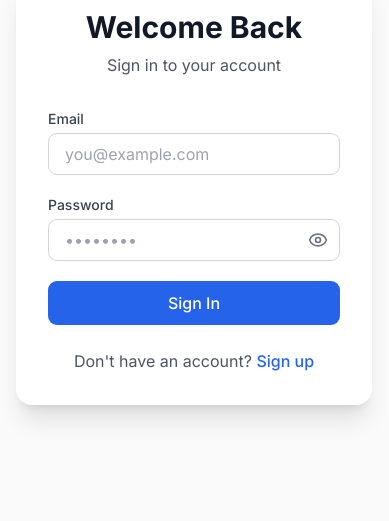
Test case: Login component › displays API error message on failure
Type "test@example.com" into the field with placeholder "you@example.com". click: {"x": 194, "y": 154}
box: x1=48 y1=133 x2=340 y2=175
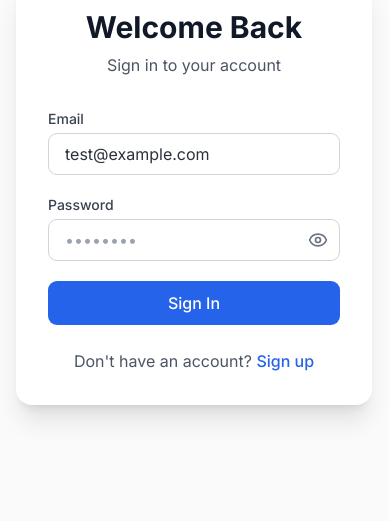
Type "Password123" into the password field with placeholder "••••••••". click: {"x": 194, "y": 240}
box: x1=48 y1=219 x2=340 y2=261
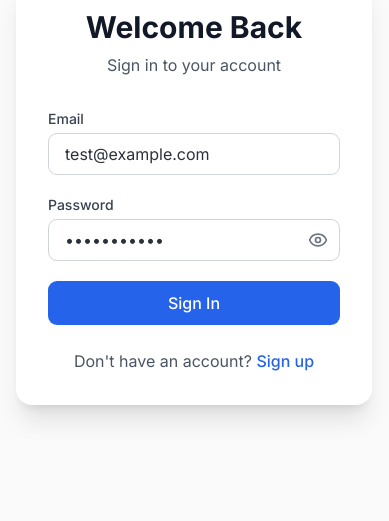
Click the button "Sign In". click: {"x": 194, "y": 303}
box: x1=48 y1=281 x2=340 y2=325
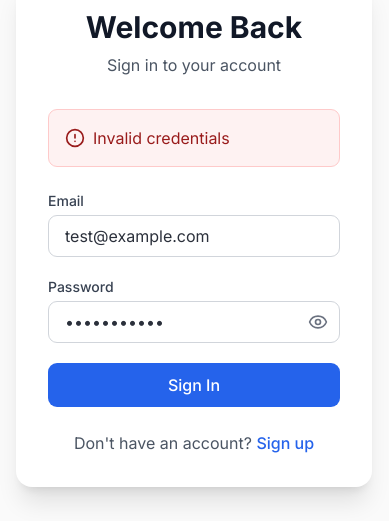
Result: the text "Invalid credentials" is shown at x1=93 y1=126 x2=230 y2=150
